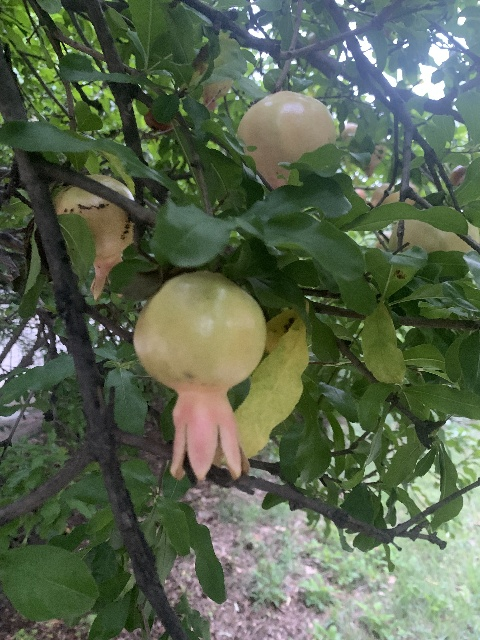mid-growth: (132, 266, 270, 485), (52, 173, 134, 302), (237, 90, 337, 188)
